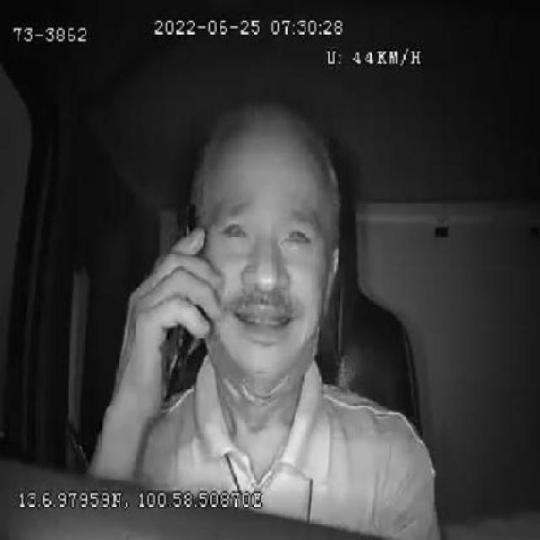phone: (158, 207, 201, 403)
